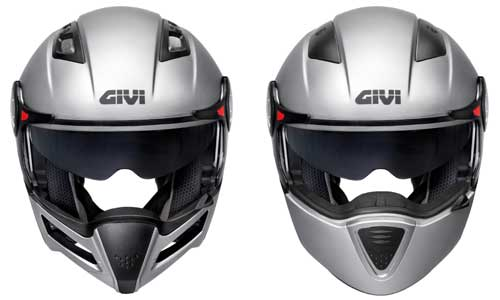helmet: (269, 8, 487, 289), (16, 17, 223, 280)
